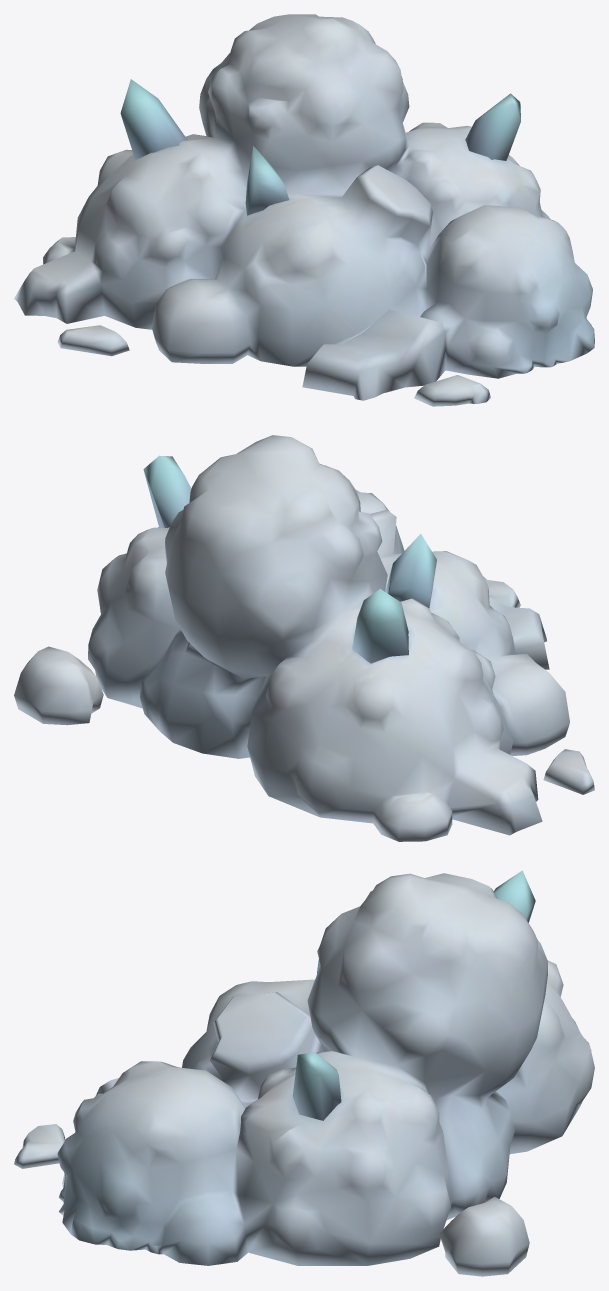
File: event_heap.glb
3 renders of one model, top to bottom at view 1: azimuth 30°, elevation 25°; view 2: azimuth 150°, elevation 25°; view 3: azimuth 270°, elevation 25°, orthographic. The views are drawn at different scales.
Visible parts, largest first — view 1: event_heap; view 2: event_heap; view 3: event_heap.
Part boxes in pixels (x1,y1,x2,y2): event_heap: [14, 14, 594, 406]; event_heap: [14, 435, 594, 841]; event_heap: [14, 870, 594, 1276].
Size of the model in its own units: 1.93 by 1 by 1.82.
Materials: 1 (1 with a texture image).
